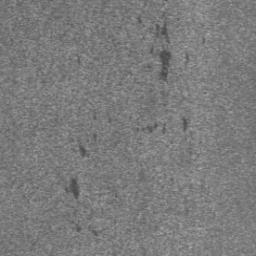Iron scale compression: (66, 171, 80, 200), (160, 50, 171, 81), (162, 17, 169, 42), (79, 147, 87, 159), (182, 118, 188, 132)
